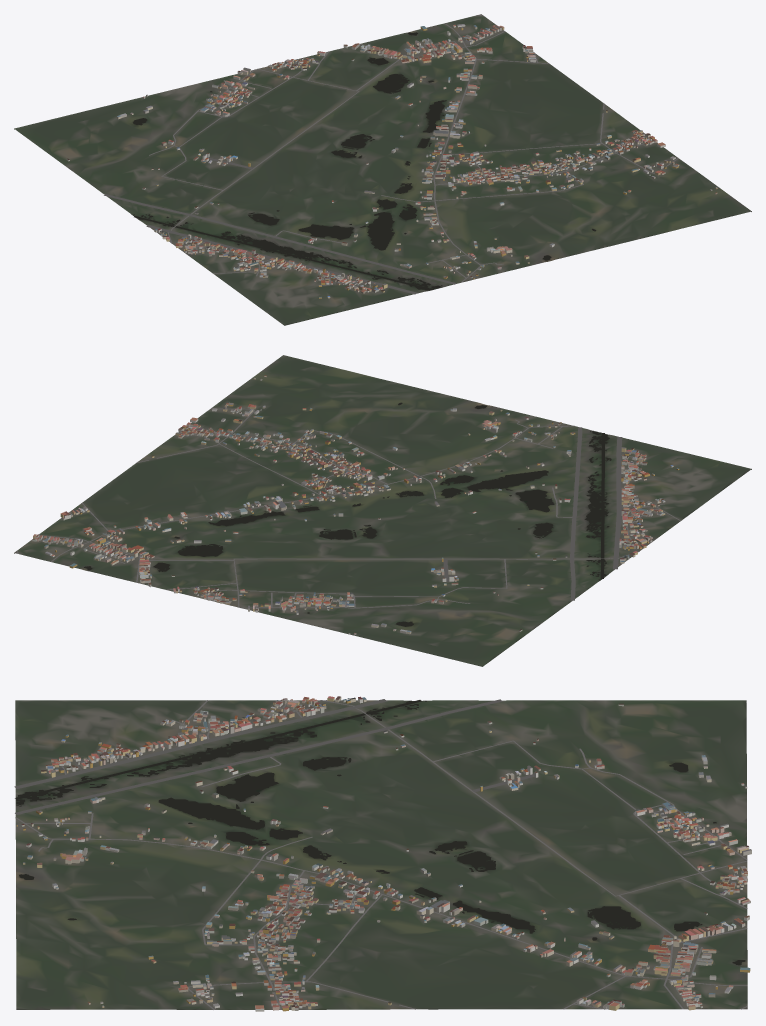
3 views of the same model, one above another, from view 1: azimuth 30°, elevation 25°; view 2: azimuth 150°, elevation 25°; view 3: azimuth 270°, elevation 25° (orthographic). The views are drawn at different scales.
Visible parts, largest first — view 1: ground, buildings, water, roads; view 2: ground, buildings, water, roads; view 3: ground, buildings, water, roads.
Part boxes in pixels (x1,y1,x2,y2): ground: (14,14,751,325); buildings: (66,24,717,298); water: (133,32,596,290); roads: (17,15,678,294); ground: (14,355,751,666); buildings: (32,375,679,634); water: (84,402,611,626); roads: (16,408,681,608); ground: (15,700,747,1009); buildings: (16,696,751,1011); water: (15,700,745,965); roads: (14,699,747,1009).
Size of the model in its own units: 1417 by 18.96 by 1415.
